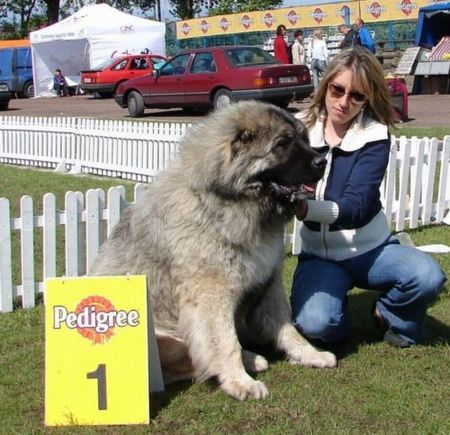cau_ovcharka: (86, 98, 336, 402)
human_face: (322, 67, 367, 124)
person: (289, 46, 445, 349), (339, 18, 375, 54), (309, 28, 329, 92), (289, 29, 310, 64), (272, 24, 290, 63), (51, 68, 68, 97)
